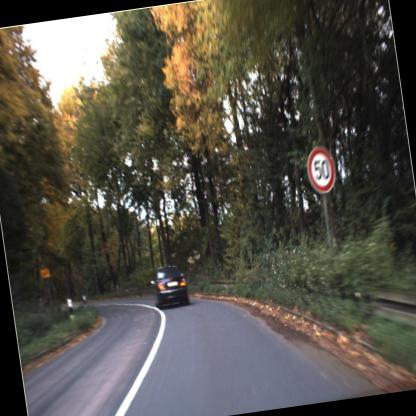prohibitory: (294, 141, 344, 202)
